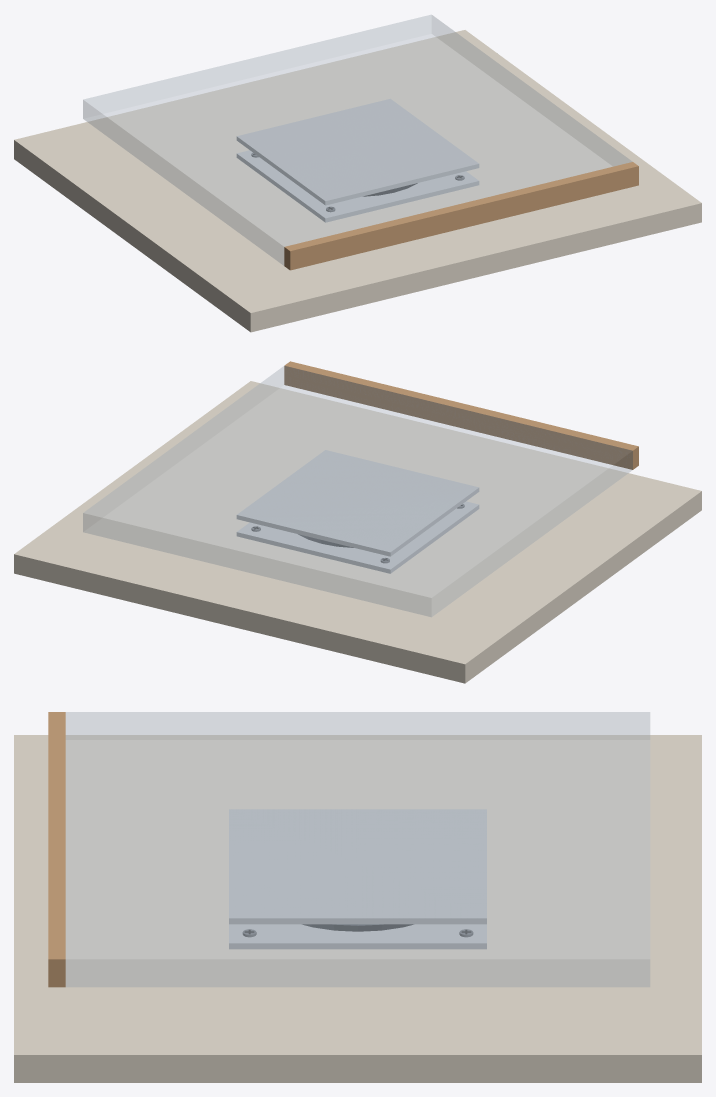
3 renders of one model, top to bottom at view 1: azimuth 30°, elevation 25°; view 2: azimuth 150°, elevation 25°; view 3: azimuth 270°, elevation 25°, orthographic. The views are drawn at different scales.
Visible parts, largest first — view 1: 밑판, 위판, 회전판 위 쇠판, 위판 앞 마구리, 회전판 밑 쇠판; view 2: 밑판, 위판, 회전판 위 쇠판, 위판 앞 마구리, 회전판 밑 쇠판; view 3: 밑판, 위판, 회전판 위 쇠판, 회전판 밑 쇠판, 위판 앞 마구리, 회전판 볼 길.
Part boxes in pixels (x1,y1,x2,y2): 밑판: [14, 30, 701, 332]; 위판: [83, 15, 632, 265]; 회전판 위 쇠판: [236, 98, 479, 205]; 위판 앞 마구리: [284, 162, 638, 270]; 회전판 밑 쇠판: [236, 150, 479, 222]; 밑판: [14, 381, 701, 683]; 위판: [83, 366, 632, 616]; 회전판 위 쇠판: [236, 450, 479, 556]; 위판 앞 마구리: [284, 361, 638, 469]; 회전판 밑 쇠판: [236, 501, 479, 573]; 밑판: [14, 735, 701, 1082]; 위판: [66, 712, 649, 986]; 회전판 위 쇠판: [229, 809, 486, 924]; 회전판 밑 쇠판: [229, 924, 486, 949]; 위판 앞 마구리: [48, 712, 65, 987]; 회전판 볼 길: [302, 924, 413, 931].
Size of the model in its own units: 0.44 by 0.056 by 0.4.
